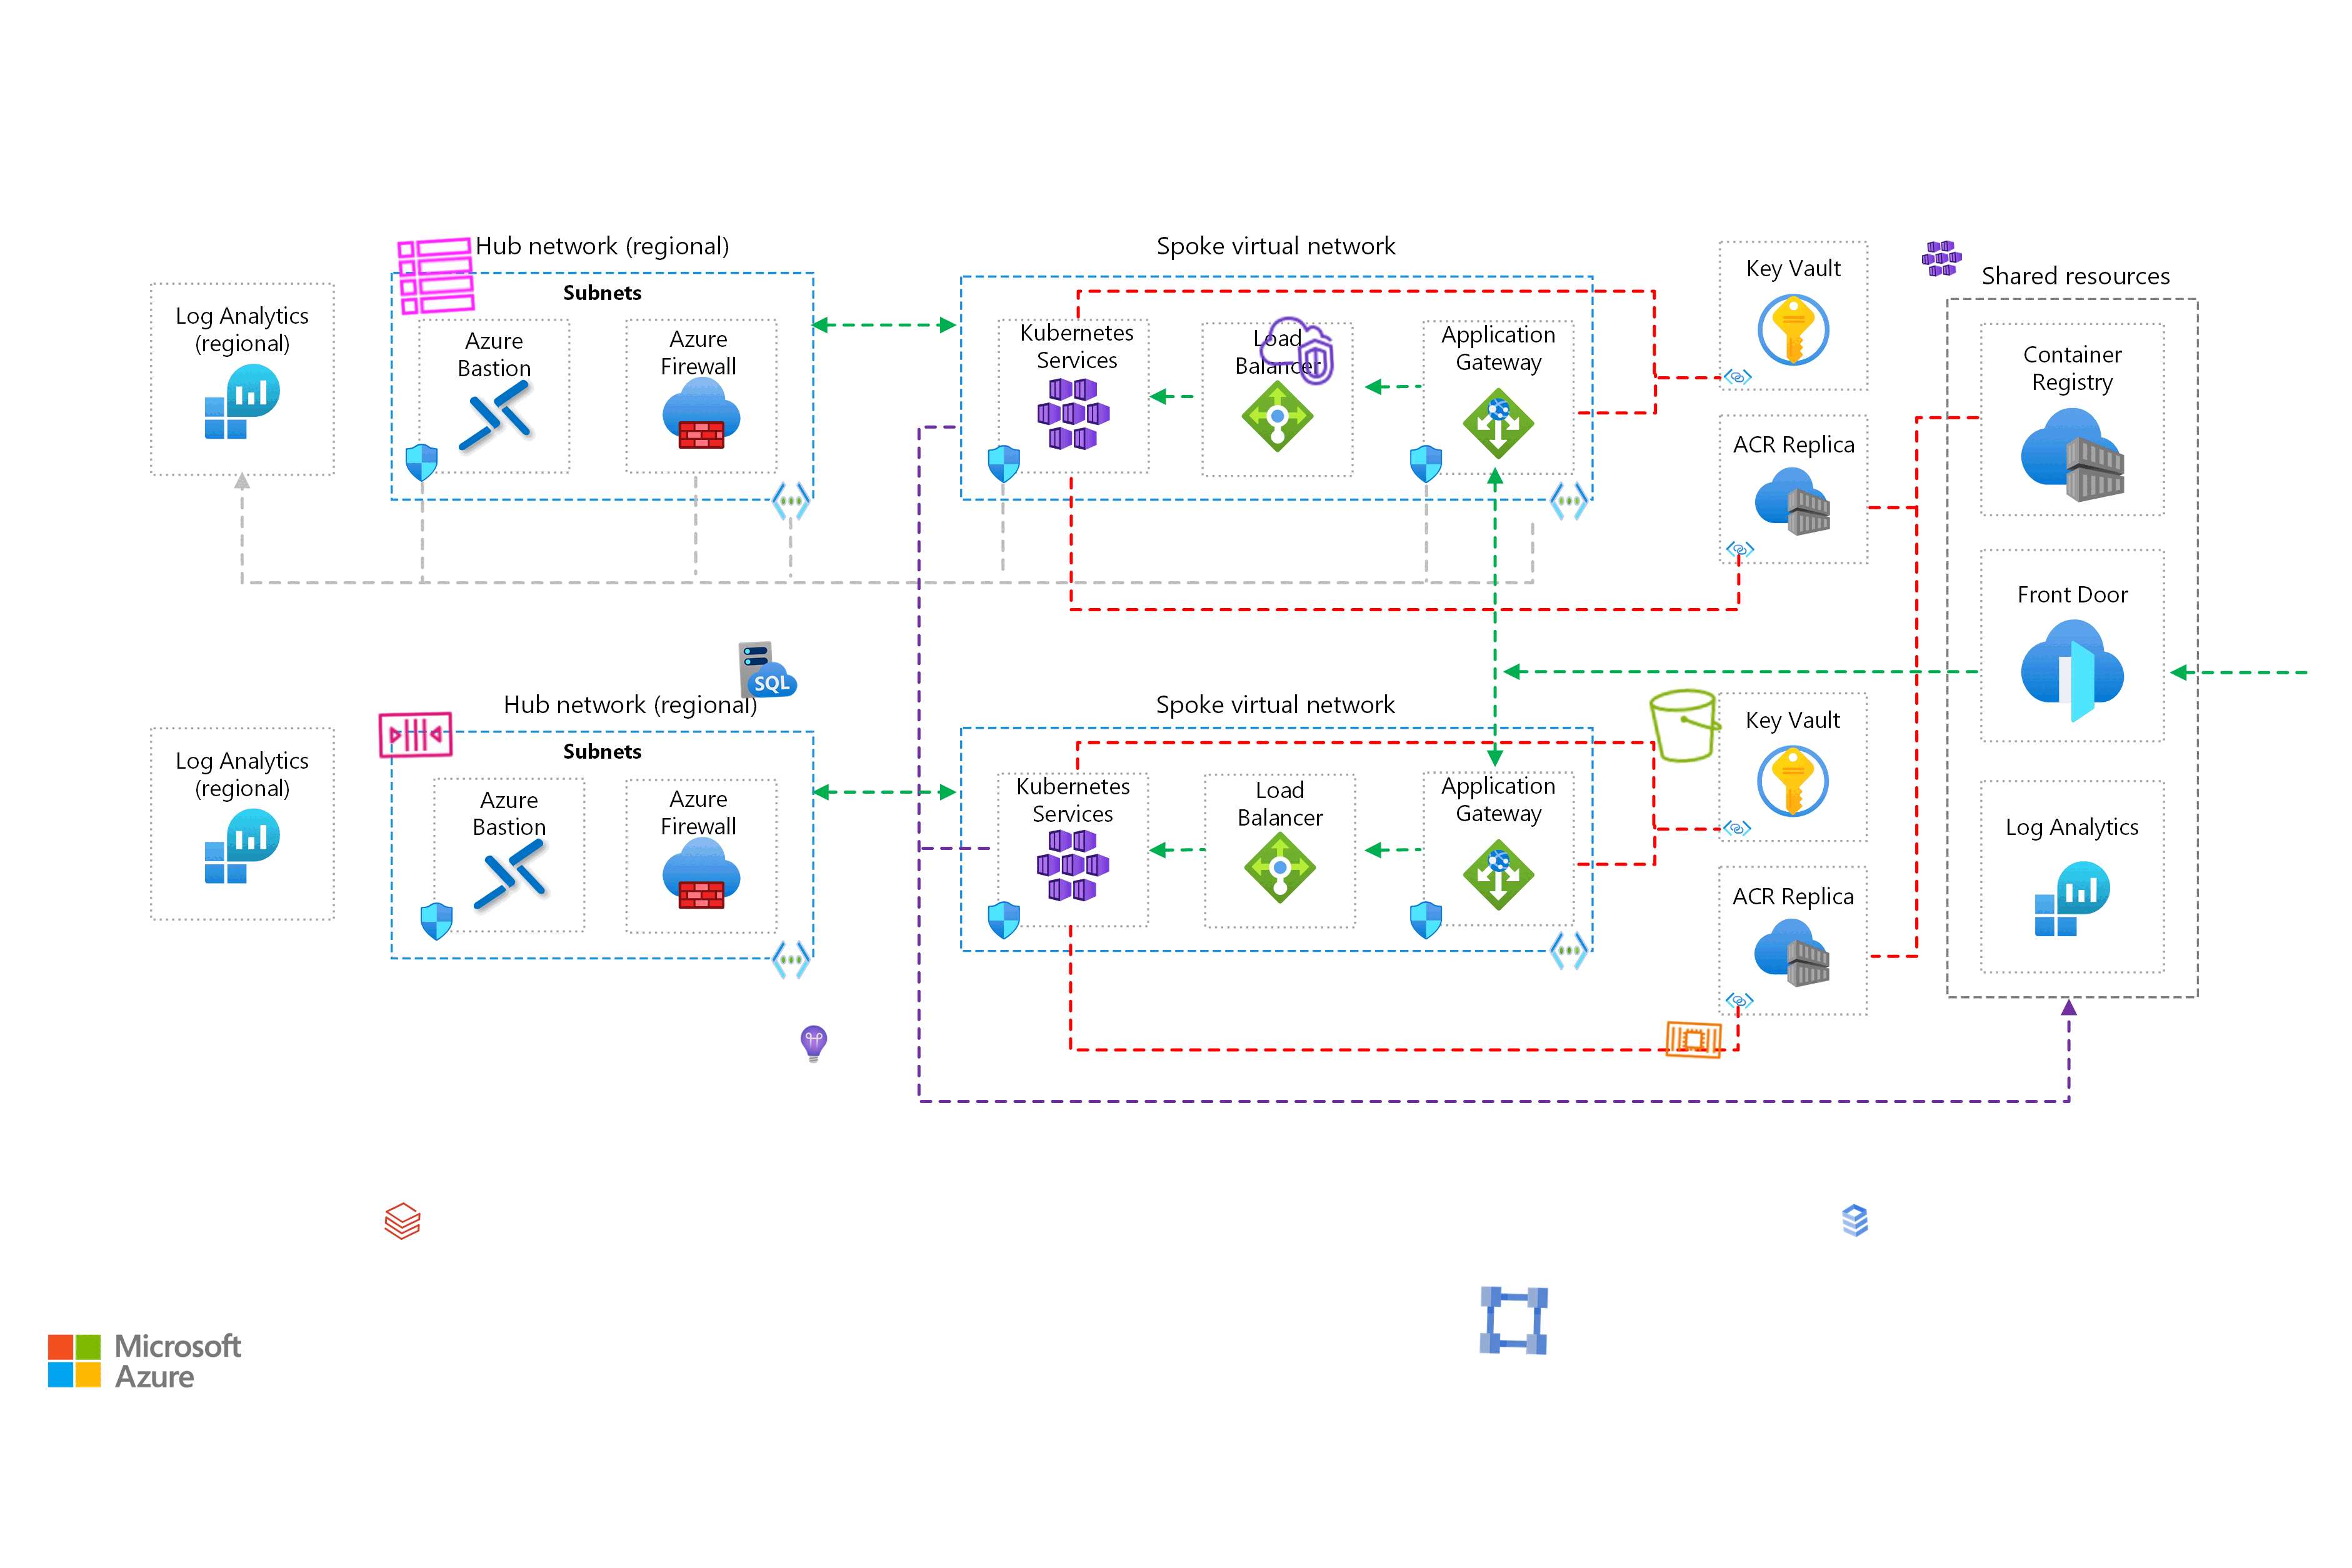aws_dynamodb_table: (394, 234, 480, 318)
aws_elastic_container_service_container_2: (1662, 1008, 1725, 1071)
aws_simple_queue_service_queue: (374, 693, 457, 775)
aws_simple_storage_service_bucket: (1643, 682, 1729, 768)
aws_vpc_virtual_private_cloud_vpc: (1253, 308, 1339, 394)
azure_application_insights: (793, 1024, 835, 1066)
azure_databricks: (381, 1200, 424, 1242)
azure_kubernetes_services: (1920, 236, 1963, 280)
azure_sql_managed_instance: (737, 637, 800, 702)
gcp_cloud_sql: (1834, 1199, 1878, 1242)
gcp_virtual_private_cloud: (1472, 1279, 1556, 1361)
